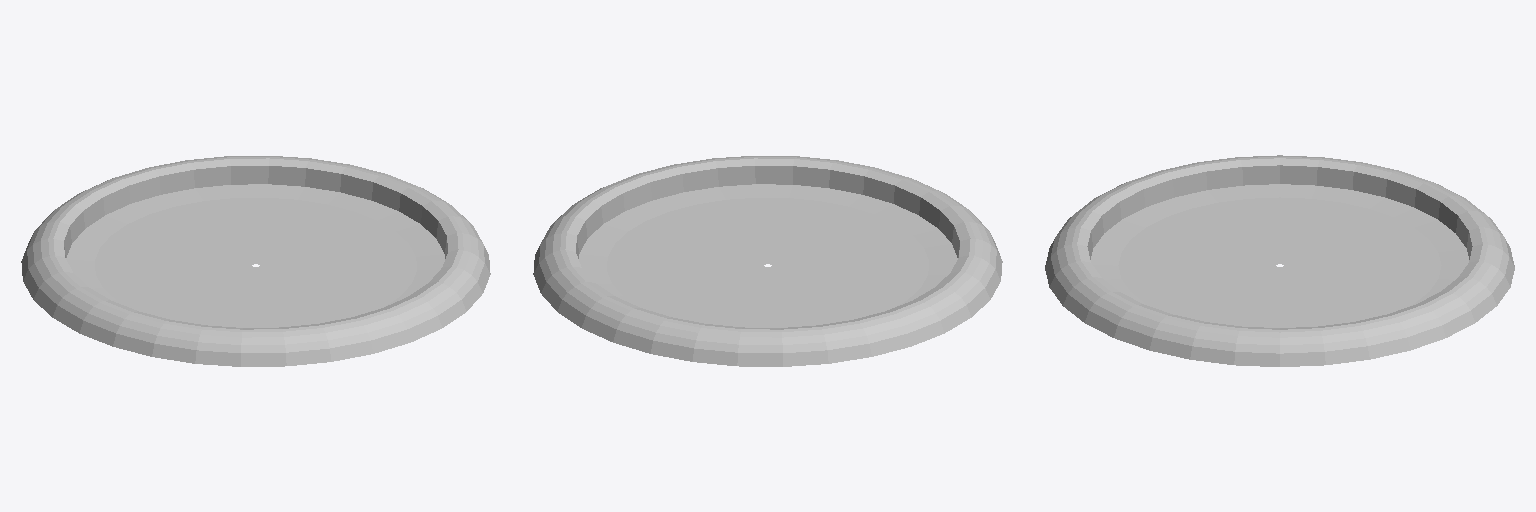
The model's file is Gauge1.obj.
The picture shows the model from 3 angles: view 1: azimuth 30°, elevation 25°; view 2: azimuth 150°, elevation 25°; view 3: azimuth 270°, elevation 25°; orthographic projection.
Visible parts, largest first — view 1: Circle; view 2: Circle; view 3: Circle.
Boxes of the visible parts, x1,y1,x2,y2 form: Circle: [21, 156, 490, 366]; Circle: [533, 156, 1002, 366]; Circle: [1045, 155, 1514, 366].
Size of the model in its own units: 2 by 0.1121 by 2.